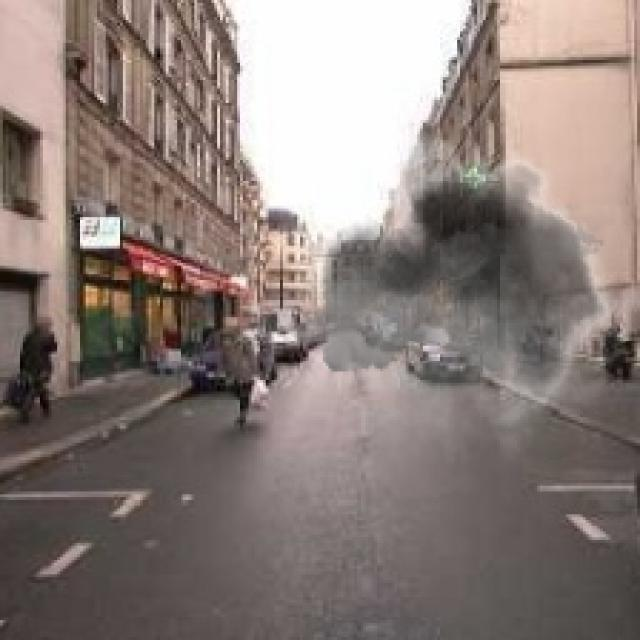Smoke: (288, 117, 634, 466)
